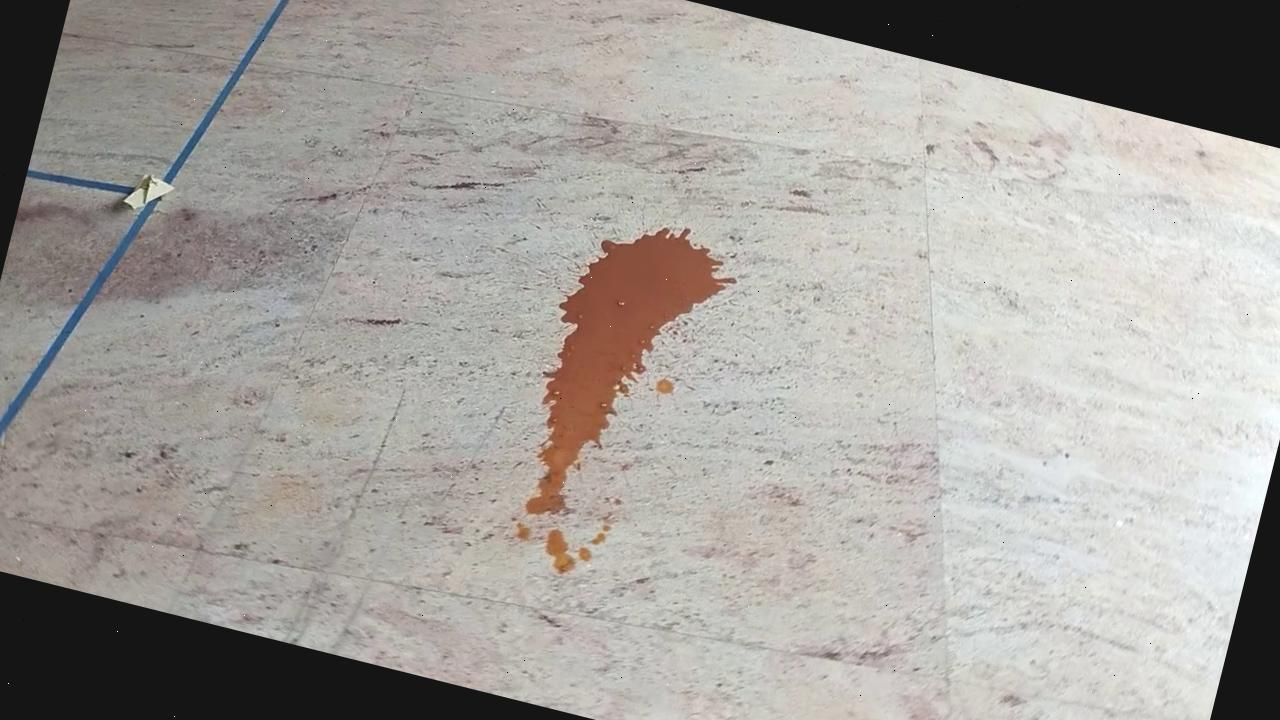dirty_floor: (493, 199, 746, 598)
